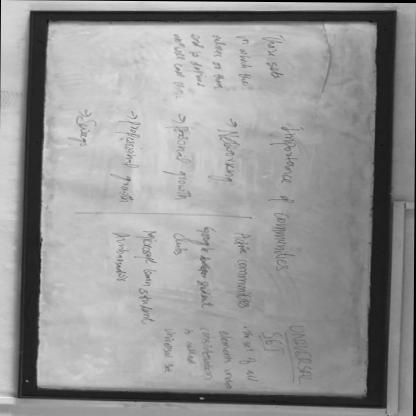Handwritten text: (261, 122, 312, 272), (106, 228, 159, 326), (171, 223, 220, 311), (104, 120, 147, 204), (153, 124, 196, 202), (224, 229, 259, 309), (203, 127, 250, 184), (285, 320, 320, 385), (160, 28, 187, 101), (256, 31, 294, 81), (58, 115, 105, 150), (237, 324, 263, 384), (207, 31, 231, 93), (217, 327, 239, 392), (153, 327, 181, 377), (233, 33, 257, 88), (186, 32, 208, 90), (199, 324, 217, 382), (258, 326, 289, 356), (184, 326, 199, 368)
Whiteboard: (29, 2, 387, 405)
